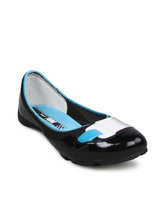shoes: (12, 66, 154, 168)
